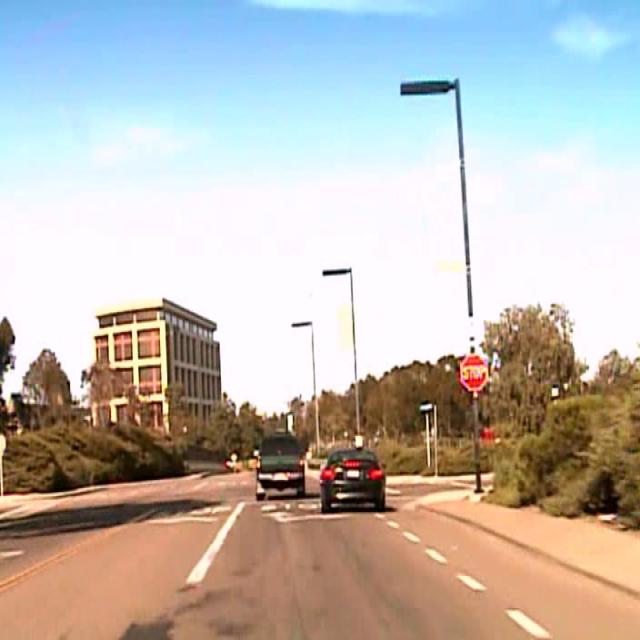stop: (459, 352, 488, 392)
